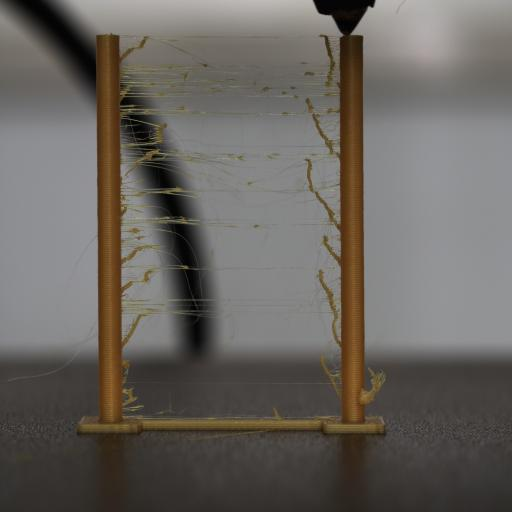stringing: (118, 34, 342, 350), (356, 366, 385, 411)
